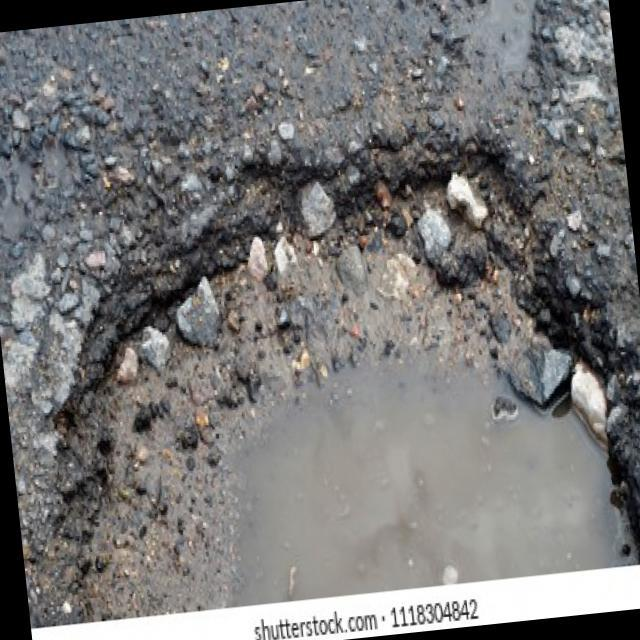Pothole: (9, 111, 640, 625)
